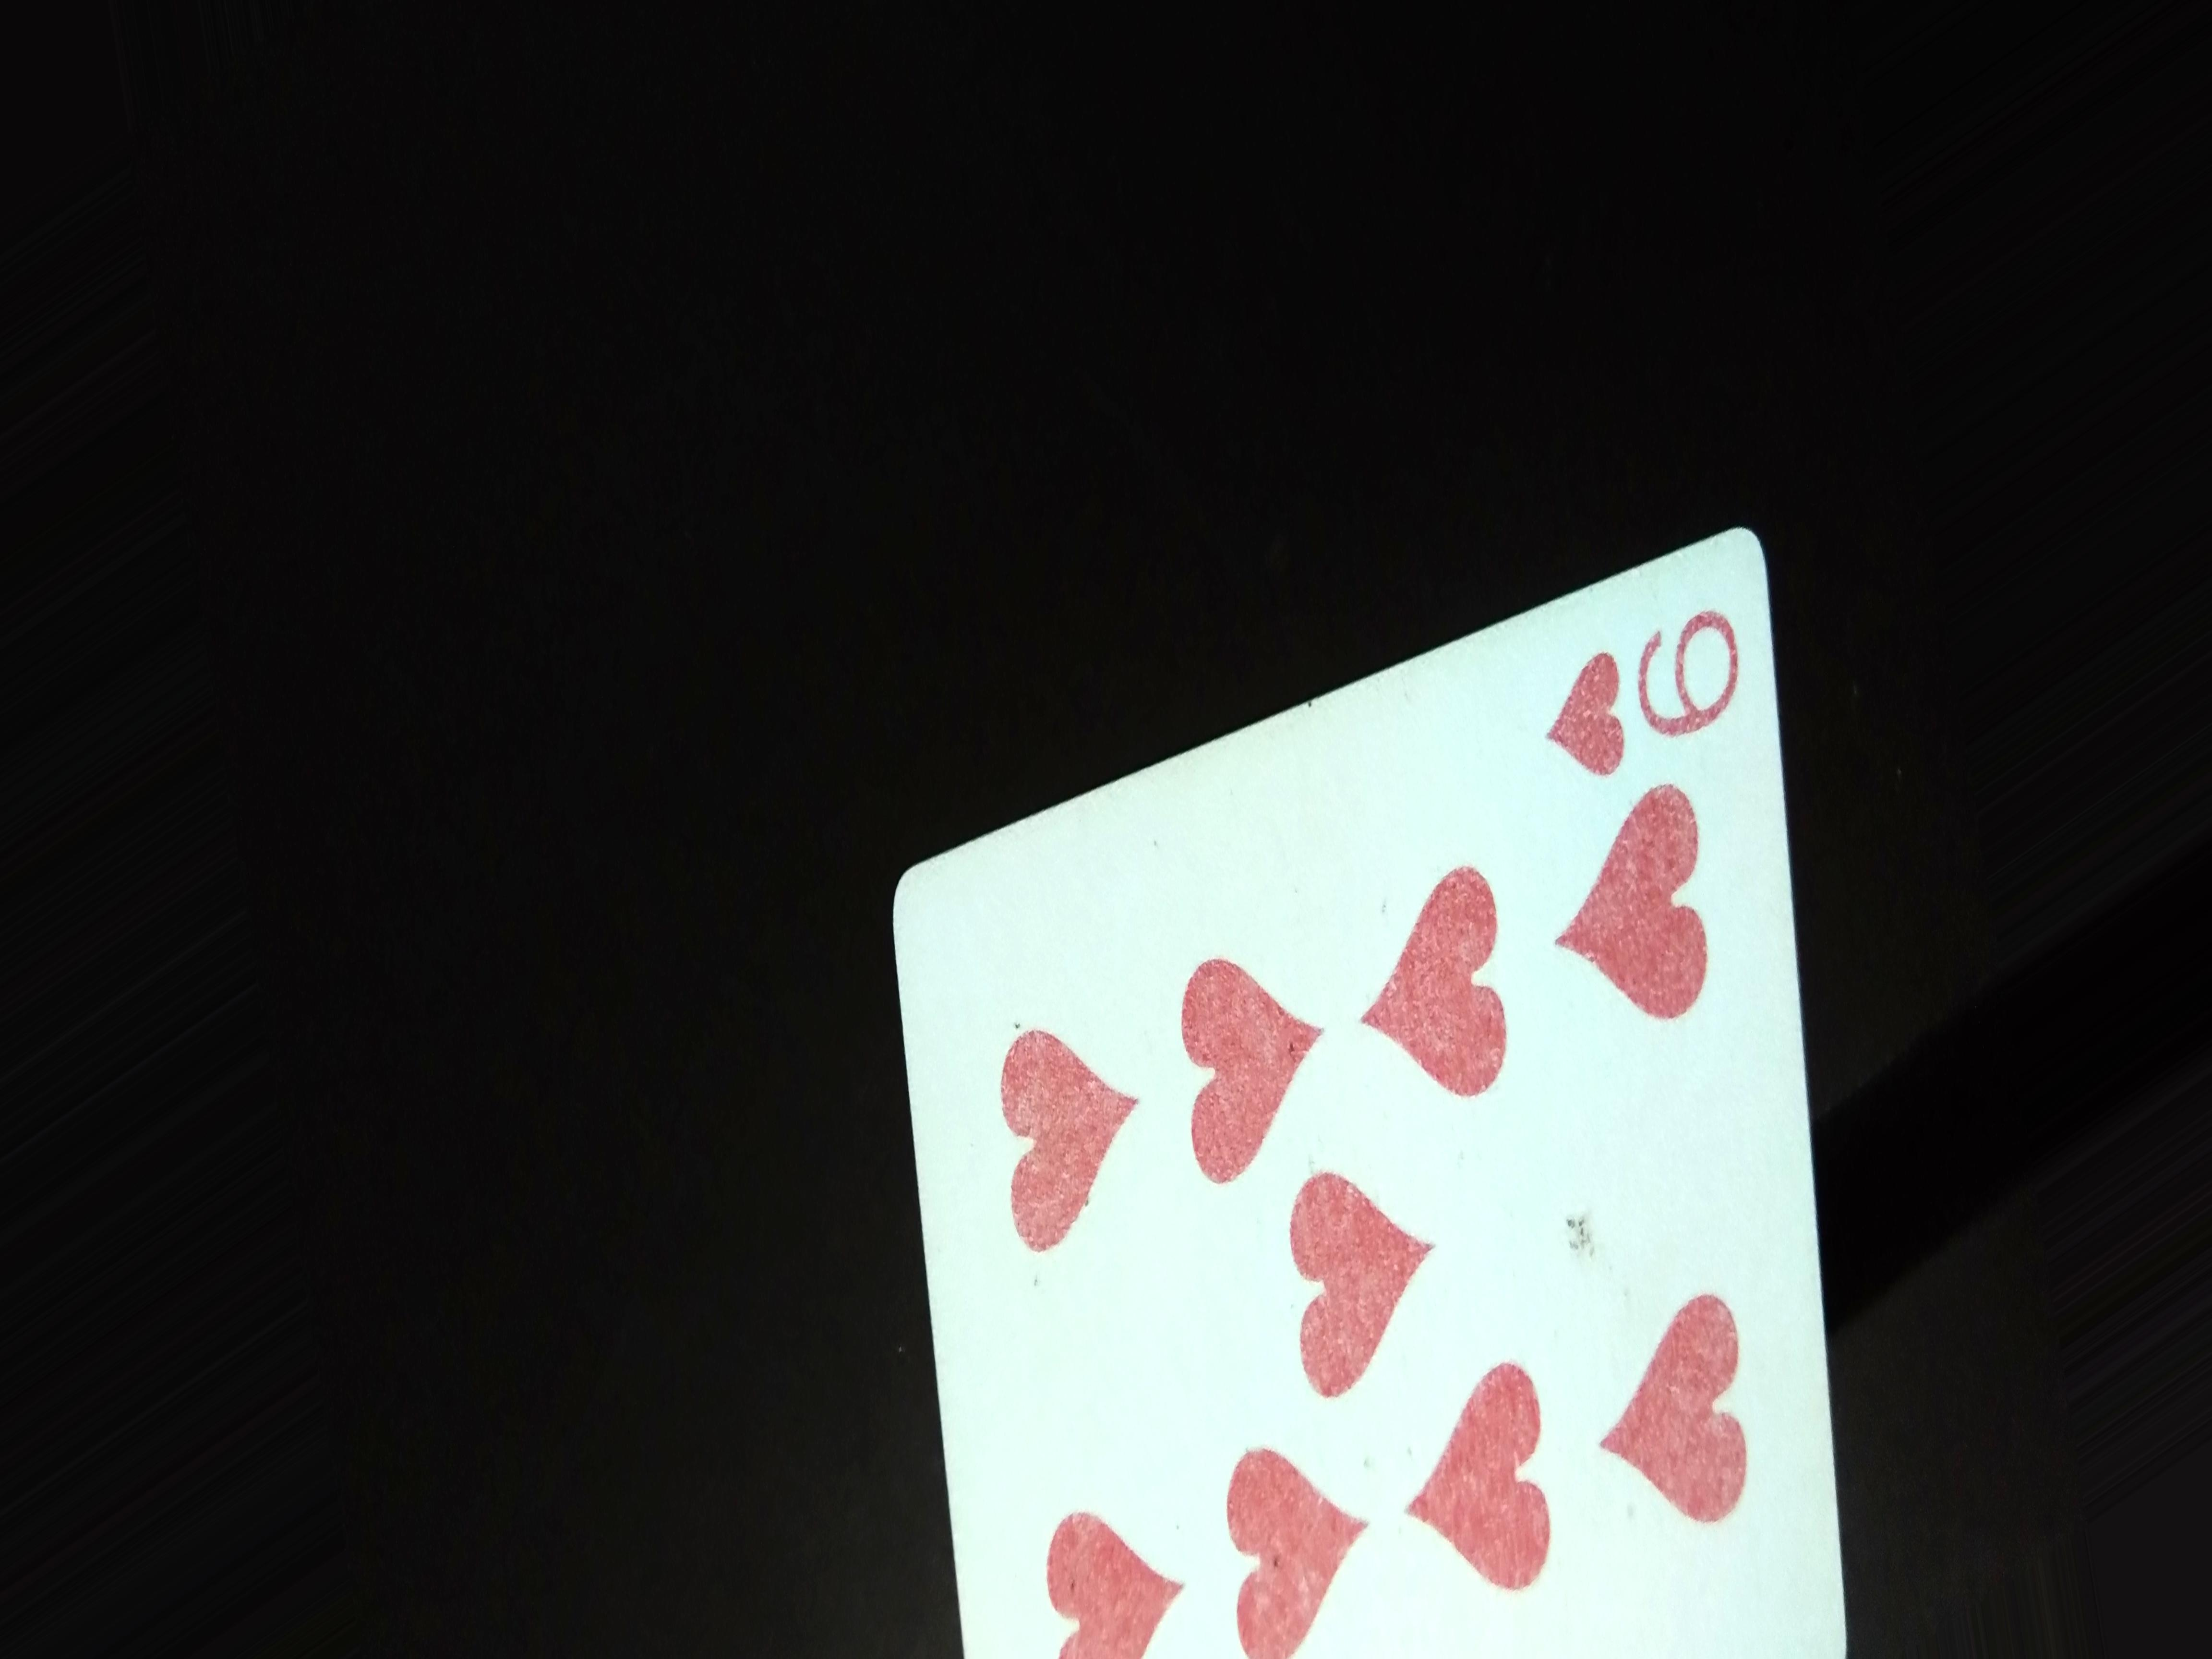9H: (1550, 596, 1750, 786)
